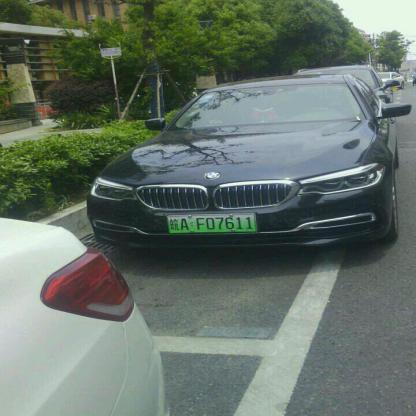lp: (166, 213, 257, 233)
